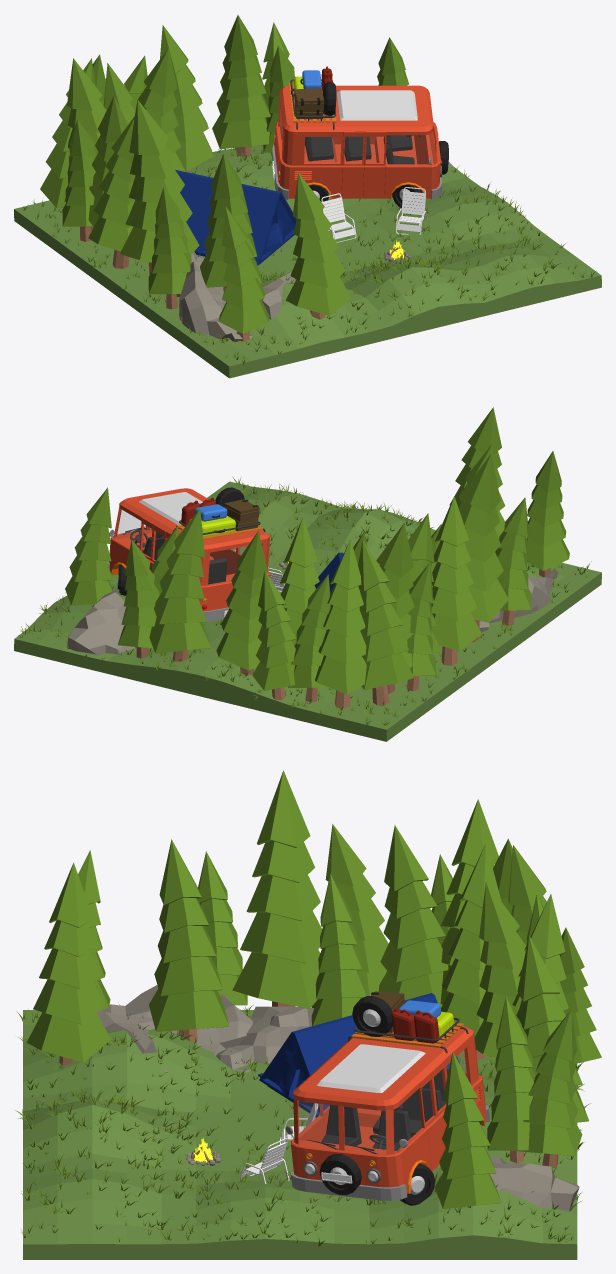
The model's file is camp_night.glb.
3 views of the same model, one above another, from view 1: azimuth 30°, elevation 25°; view 2: azimuth 150°, elevation 25°; view 3: azimuth 270°, elevation 25° (orthographic). The views are drawn at different scales.
Visible parts, largest first — view 1: Cube.019, Cube, object 67, Cone.027, Cone.025, Cone.029, Cube.014, Cone.030, Cone.002, Cone.026, Cone.009, Cone.023 (+17 smaller); view 2: Cube.019, Cube, Cone.029, Cone.000, Cone.002, Cone.027, Cone.021, object 67, Cone.023, Cone.030, Cone.005, Cone.028 (+15 smaller); view 3: Cube.019, Cube, Cone.027, object 67, Cone.025, Cone.026, Cone.022, Cone.028, Cone.007, Cone.006, Cone.003, Cone.008 (+27 smaller).
Boxes of the visible parts, box(x1,y1,x2,y2) form: Cube.019: box(14, 145, 601, 378); Cube: box(274, 85, 440, 198); object 67: box(21, 145, 596, 364); Cone.027: box(120, 99, 199, 274); Cone.025: box(286, 172, 350, 319); Cone.029: box(212, 15, 270, 156); Cube.014: box(175, 170, 296, 265); Cone.030: box(218, 206, 269, 341); Cone.002: box(88, 116, 135, 268); Cone.026: box(200, 153, 261, 291); Cone.009: box(148, 187, 191, 309); Cone.023: box(160, 25, 213, 172); Cube.019: box(14, 481, 601, 741); Cube: box(109, 488, 270, 611); Cone.029: box(149, 508, 211, 661); Cone.000: box(315, 539, 366, 708); Cone.002: box(431, 496, 481, 665); Cone.027: box(458, 453, 508, 642); Cone.021: box(358, 540, 414, 705); object 67: box(18, 476, 591, 726); Cone.023: box(216, 531, 267, 675); Cone.030: box(526, 451, 569, 577); Cone.005: box(252, 570, 296, 700); Cone.028: box(65, 487, 112, 605); Cube.019: box(23, 1010, 577, 1259); Cube: box(291, 1026, 486, 1193); Cone.027: box(232, 770, 322, 1008); object 67: box(15, 1004, 590, 1246); Cone.025: box(26, 862, 110, 1065); Cone.026: box(149, 839, 228, 1041); Cone.022: box(378, 825, 448, 1008); Cone.028: box(434, 1052, 501, 1208); Cone.007: box(517, 1010, 582, 1167); Cone.006: box(487, 996, 535, 1163); Cone.003: box(474, 882, 525, 1057); Cone.008: box(311, 873, 367, 1026).
Size of the model in its own units: 10.65 by 5.35 by 10.9.
